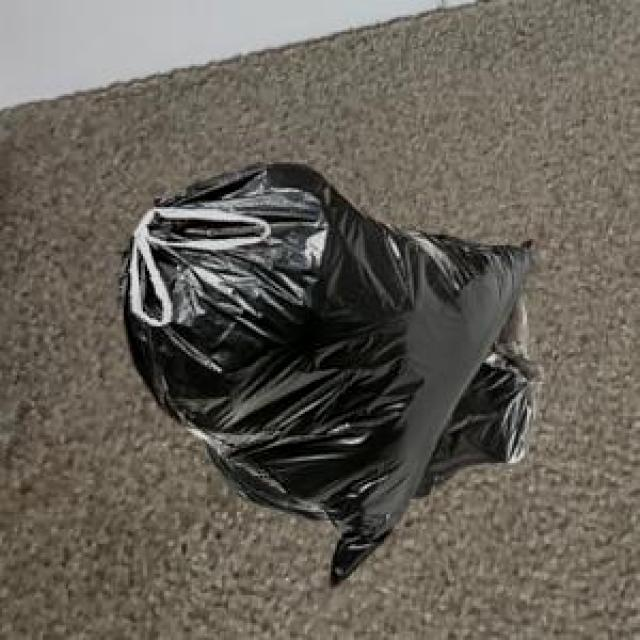Trashbag: (119, 158, 537, 594)
